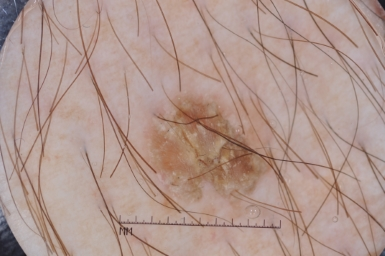seborrheic keratosis: (134, 88, 266, 210)
